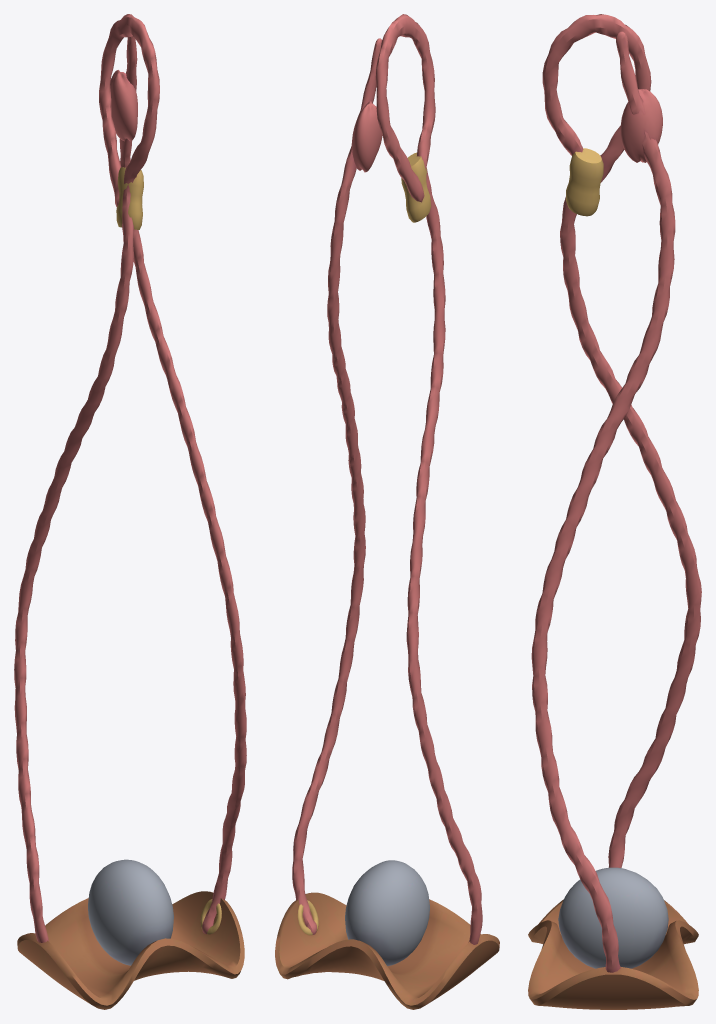
Rendered from sling.glb.
3 views of the same model, side by side, from view 1: azimuth 30°, elevation 25°; view 2: azimuth 150°, elevation 25°; view 3: azimuth 270°, elevation 25° (orthographic).
Visible parts, largest first — view 1: sling_hanging; view 2: sling_hanging; view 3: sling_hanging.
Part boxes in pixels (x1,y1,x2,y2): sling_hanging: (14, 14, 246, 1009); sling_hanging: (275, 14, 499, 1009); sling_hanging: (528, 14, 701, 1009).
Size of the model in its own units: 0.2123 by 1 by 0.1633.
1 material, 1 textured.
